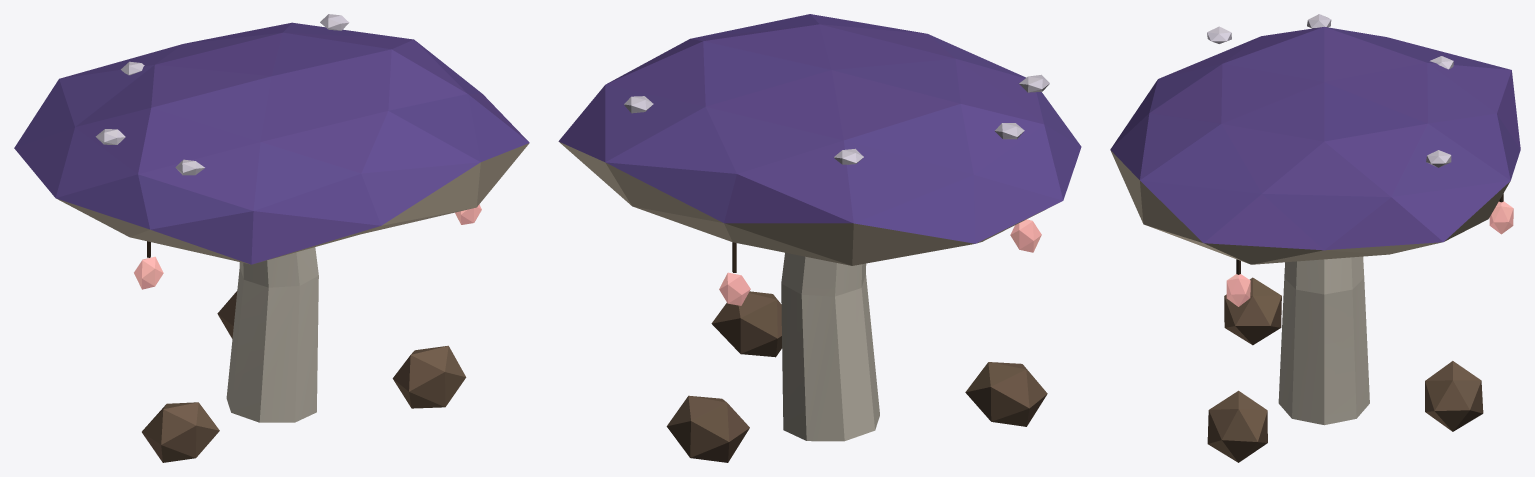
The model's file is dreamb_moonmarket_red.glb.
3 views of the same model, side by side, from view 1: azimuth 30°, elevation 25°; view 2: azimuth 150°, elevation 25°; view 3: azimuth 270°, elevation 25° (orthographic). The views are drawn at different scales.
Parts seen in each view (by area): view 1: dreamb_moonmarket_red_solid, dreamb_moonmarket_red_glow; view 2: dreamb_moonmarket_red_solid, dreamb_moonmarket_red_glow; view 3: dreamb_moonmarket_red_solid, dreamb_moonmarket_red_glow.
Part boxes in pixels (left/top/right/bottom): dreamb_moonmarket_red_solid: left=14, top=14, right=529, bottom=462; dreamb_moonmarket_red_glow: left=134, top=204, right=481, bottom=289; dreamb_moonmarket_red_solid: left=558, top=14, right=1081, bottom=462; dreamb_moonmarket_red_glow: left=719, top=219, right=1041, bottom=305; dreamb_moonmarket_red_solid: left=1110, top=14, right=1520, bottom=462; dreamb_moonmarket_red_glow: left=1226, top=201, right=1513, bottom=306.
Bounding box in the file's own units: 1.69 × 1.25 × 1.44.
